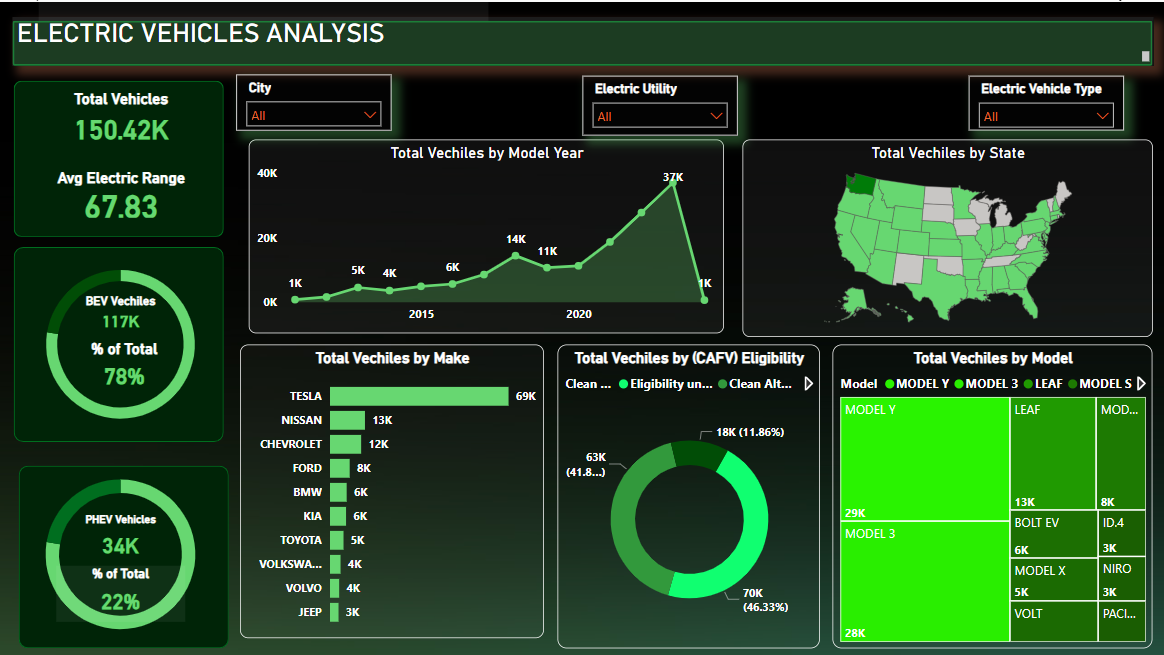

Layout of this report page (visuals, bound fields, positions):
{"tool":"powerbi","page":{"name":"Page 1","canvas":[1280,720],"ordinal":0},"visuals":[{"type":"textbox","box":[42.5,0,494,56.3],"z":0},{"type":"textbox","box":[20.6,11,688.9,59],"z":1000},{"type":"shape","box":[13.7,20.6,1251.5,49.4],"z":3000},{"type":"textbox","title":"ELECTRIC VEHICLES ANALYSIS","box":[13.7,16.5,1252.8,53.5],"z":4000},{"type":"shape","box":[15.1,86.4,230.5,171.5],"z":5000},{"type":"card","title":"Total Vehicles","fields":{"Values":["Electric_Vehicle_Population_Data.Total Vechiles"]},"box":[20.6,96.1,225,65.9],"z":6000},{"type":"card","title":"Avg Electric Range","fields":{"Values":["Avg(Electric_Vehicle_Population_Data.Electric Range)"]},"box":[20.6,182.5,225,59],"z":7000},{"type":"shape","box":[15.1,269,230.5,214.1],"z":8000},{"type":"shape","box":[20.6,509.1,230.5,200.3],"z":9000},{"type":"donutChart","fields":{"Category":["Electric_Vehicle_Population_Data.Electric Vehicle Type"],"Y":["Electric_Vehicle_Population_Data.Total Vechiles"]},"box":[15.1,269,234.6,214.1],"z":10000},{"type":"card","title":"BEV Vechiles","fields":{"Values":["Electric_Vehicle_Population_Data.BEV Vehicles"]},"box":[70,321.1,124.9,38.4],"z":11000},{"type":"donutChart","fields":{"Category":["Electric_Vehicle_Population_Data.Electric Vehicle Type"],"Y":["Electric_Vehicle_Population_Data.Total Vechiles"]},"box":[24.7,492.6,215.4,227.8],"z":12000},{"type":"areaChart","fields":{"Category":["Electric_Vehicle_Population_Data.Model Year"],"Y":["Electric_Vehicle_Population_Data.Total Vechiles"]},"box":[273.1,150.9,521.4,212.7],"z":13000},{"type":"barChart","fields":{"Y":["Electric_Vehicle_Population_Data.Total Vechiles"],"Category":["Electric_Vehicle_Population_Data.Make"]},"box":[263.5,376,333.4,322.5],"z":14000},{"type":"donutChart","title":"Total Vechiles by  (CAFV) Eligibility","fields":{"Y":["Electric_Vehicle_Population_Data.Total Vechiles"],"Category":["Electric_Vehicle_Population_Data.Clean Alternative Fuel Vehicle (CAFV) Eligibility"]},"box":[612,376,288.2,333.4],"z":15000},{"type":"card","title":"% of Total","fields":{"Values":["Electric_Vehicle_Population_Data.% of BEV"]},"box":[76.8,370.5,119.4,60.4],"z":16000},{"type":"card","title":"PHEV Vehicles","fields":{"Values":["Electric_Vehicle_Population_Data.PHEV Vehicles"]},"box":[56.3,561.2,152.3,57.6],"z":17000},{"type":"card","title":"% of Total","fields":{"Values":["Electric_Vehicle_Population_Data.% of PHEV"]},"box":[61.7,618.9,141.3,61.7],"z":18000},{"type":"slicer","fields":{"Values":["Electric_Vehicle_Population_Data.City"]},"box":[259.3,79.6,170.1,61.5],"z":19000},{"type":"slicer","fields":{"Values":["Electric_Vehicle_Population_Data.Electric Utility"]},"box":[639.5,81,170.2,65.9],"z":20000},{"type":"slicer","fields":{"Values":["Electric_Vehicle_Population_Data.Electric Vehicle Type"]},"box":[1063.5,81,170.2,60.4],"z":21000},{"type":"shapeMap","fields":{"Category":["Electric_Vehicle_Population_Data.State"],"Value":["Electric_Vehicle_Population_Data.Total Vechiles"]},"box":[815.1,150.9,450.1,216.8],"z":22000},{"type":"treemap","fields":{"Values":["Electric_Vehicle_Population_Data.Total Vechiles"],"Group":["Electric_Vehicle_Population_Data.Model"]},"box":[913.9,376,351.3,333.4],"z":23000}]}

Visuals, with their boxes in screenshot pixels (x1, y1, x2, y2), scaled from the page's 1280x720 canvas onto the 1164x655 screenshot:
textbox: Rect(39, 0, 488, 51)
textbox: Rect(19, 10, 645, 64)
shape: Rect(12, 19, 1151, 64)
"ELECTRIC VEHICLES ANALYSIS" textbox: Rect(12, 15, 1152, 64)
shape: Rect(14, 79, 223, 235)
"Total Vehicles" card: Rect(19, 87, 223, 147)
"Avg Electric Range" card: Rect(19, 166, 223, 220)
shape: Rect(14, 245, 223, 439)
shape: Rect(19, 463, 228, 645)
donutChart - Electric_Vehicle_Population_Data.Electric Vehicle Type x Electric_Vehicle_Population_Data.Total Vechiles: Rect(14, 245, 227, 439)
"BEV Vechiles" card: Rect(64, 292, 177, 327)
donutChart - Electric_Vehicle_Population_Data.Electric Vehicle Type x Electric_Vehicle_Population_Data.Total Vechiles: Rect(22, 448, 218, 654)
areaChart - Electric_Vehicle_Population_Data.Model Year x Electric_Vehicle_Population_Data.Total Vechiles: Rect(248, 137, 722, 331)
barChart - Electric_Vehicle_Population_Data.Total Vechiles x Electric_Vehicle_Population_Data.Make: Rect(240, 342, 543, 635)
"Total Vechiles by  (CAFV) Eligibility" donutChart: Rect(557, 342, 819, 645)
"% of Total" card: Rect(70, 337, 178, 392)
"PHEV Vehicles" card: Rect(51, 511, 190, 563)
"% of Total" card: Rect(56, 563, 185, 619)
slicer - Electric_Vehicle_Population_Data.City: Rect(236, 72, 390, 128)
slicer - Electric_Vehicle_Population_Data.Electric Utility: Rect(582, 74, 736, 134)
slicer - Electric_Vehicle_Population_Data.Electric Vehicle Type: Rect(967, 74, 1122, 129)
shapeMap - Electric_Vehicle_Population_Data.State x Electric_Vehicle_Population_Data.Total Vechiles: Rect(741, 137, 1151, 335)
treemap - Electric_Vehicle_Population_Data.Total Vechiles x Electric_Vehicle_Population_Data.Model: Rect(831, 342, 1151, 645)
